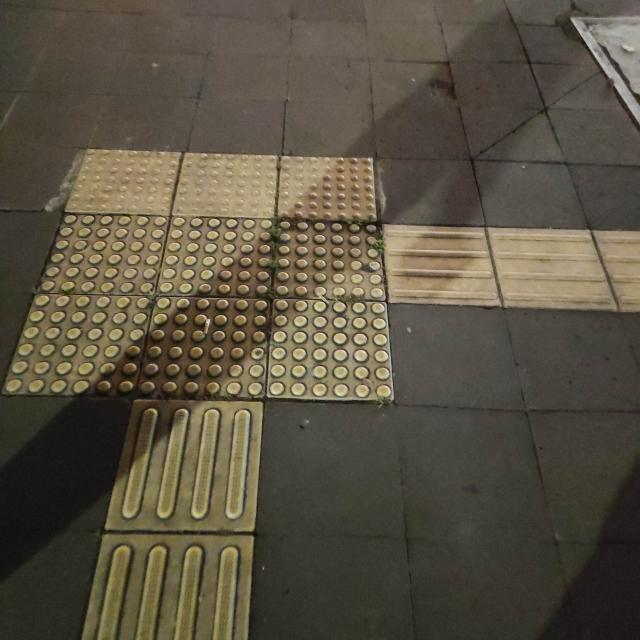kanan: (74, 170, 614, 497)
